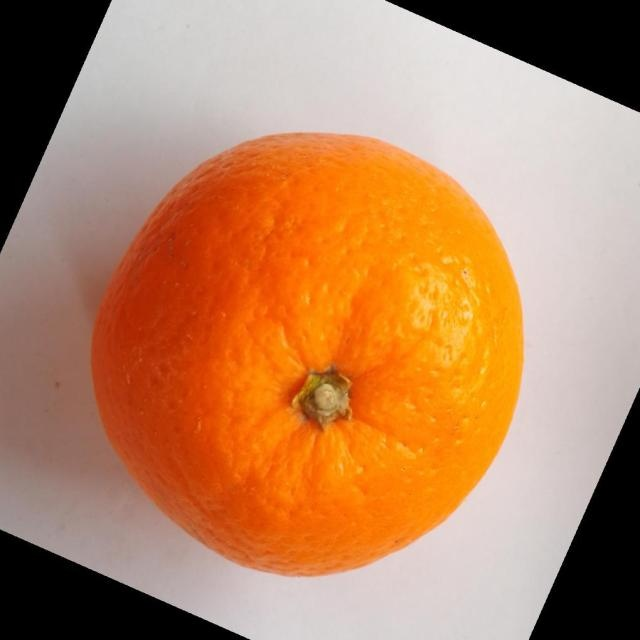agrume: (89, 130, 525, 578)
